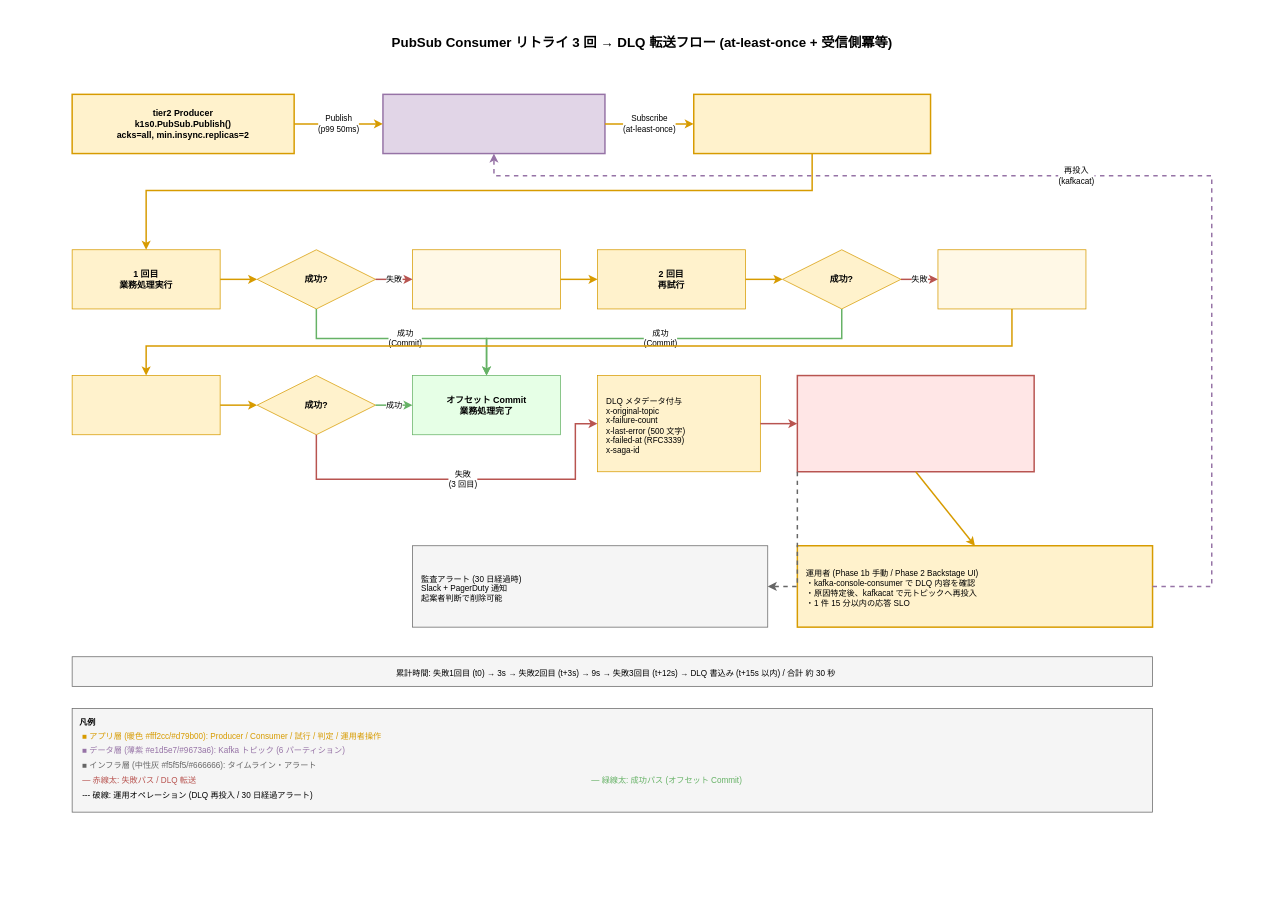
Some shapes in this 1283 by 913 pixel diagram are drawn without their labels. Here are the shapes that lost their labels. From the top down, the centre of each, then its label:
At (493,123): "Kafka トピック acme.order.placed.v1 (6 パーティション)".
At (812,123): "tier2 Consumer (Consumer Group: acme.order-service.*.cg) 業務処理ハンドラ".
At (486,279): "3 秒待機 (exponential backoff)".
At (1011,279): "9 秒待機".
At (145,405): "3 回目 再試行".
At (915,423): "DLQ トピック acme.order.placed.v1.dlq 保持 30 日".
